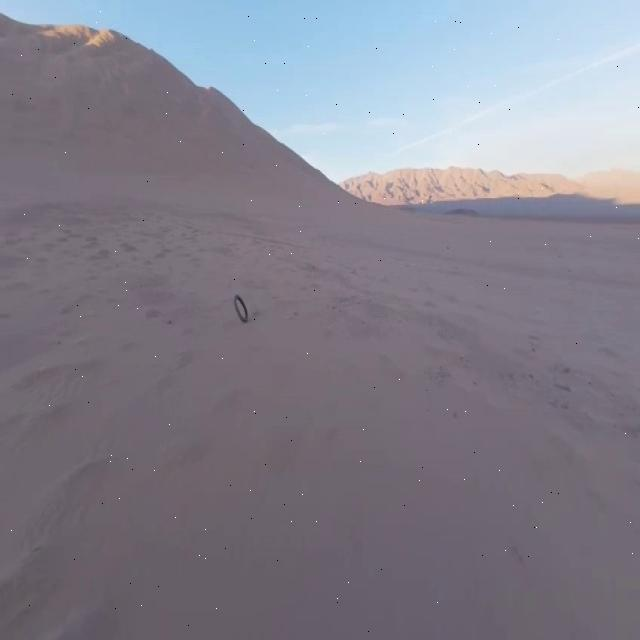Tire: (234, 295, 248, 321)
